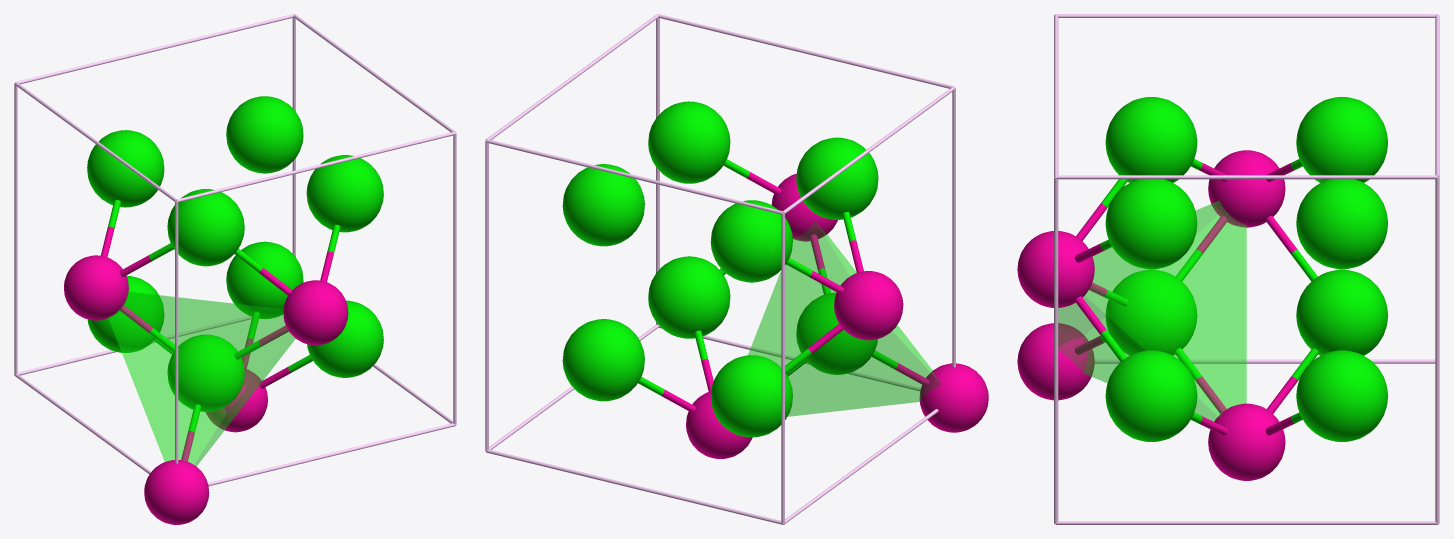
File: CaF2_fluorite.glb
The picture shows the model from 3 angles, left to right: view 1: azimuth 30°, elevation 25°; view 2: azimuth 150°, elevation 25°; view 3: azimuth 270°, elevation 25°; orthographic projection. The views are drawn at different scales.
Visible parts, largest first — view 1: F08_polyhedron, F09, F12, F08, F06, F07, F10, F11, Ca03, Ca01, Ca02, F05 (+13 smaller); view 2: F08_polyhedron, F10, F12, F11, F09, F05, F06, F07, Ca02, Ca01, F08, Ca04 (+12 smaller); view 3: F08_polyhedron, F10, F11, F12, F09, F05, F06, F07, F08, Ca04, Ca02, Ca01 (+15 smaller).
Part boxes in pixels (x1,y1,x2,y2): F08_polyhedron: (108, 291, 295, 466); F09: (226, 96, 303, 173); F12: (306, 155, 383, 232); F08: (167, 334, 244, 411); F06: (87, 130, 164, 207); F07: (167, 189, 244, 266); F10: (226, 241, 303, 319); F11: (307, 300, 383, 377); Ca03: (283, 280, 348, 345); Ca01: (144, 460, 209, 524); Ca02: (64, 255, 128, 320); F05: (87, 275, 164, 352); F08_polyhedron: (748, 222, 941, 416); F10: (562, 319, 644, 401); F12: (648, 101, 730, 183); F11: (648, 256, 730, 338); F09: (562, 164, 644, 246); F05: (710, 355, 792, 437); F06: (710, 200, 792, 282); F07: (796, 137, 878, 219); Ca02: (834, 271, 903, 340); Ca01: (919, 363, 988, 432); F08: (796, 292, 877, 374); Ca04: (686, 391, 752, 458); F08_polyhedron: (1058, 201, 1246, 421); F10: (1296, 350, 1387, 441); F11: (1105, 350, 1197, 441); F12: (1105, 179, 1197, 269); F09: (1296, 179, 1387, 269); F05: (1296, 269, 1387, 355); F06: (1296, 97, 1387, 182); F07: (1105, 97, 1197, 182); F08: (1105, 269, 1197, 355); Ca04: (1208, 403, 1285, 480); Ca02: (1208, 150, 1285, 227); Ca01: (1017, 323, 1094, 400).
Bounding box in the file's own units: 6.11 × 6.11 × 6.11.
